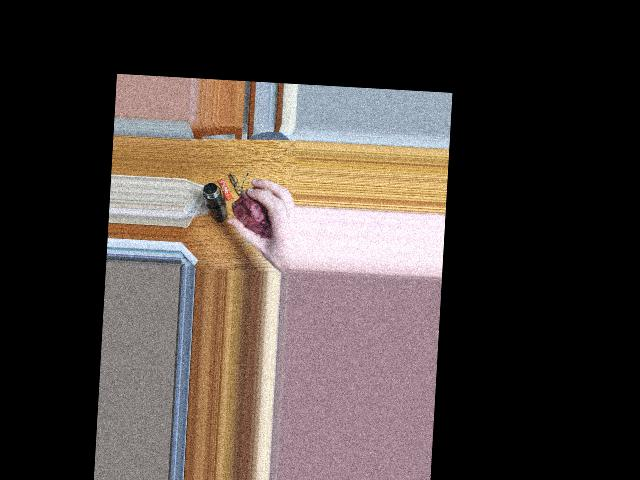onion: (234, 186, 276, 234)
